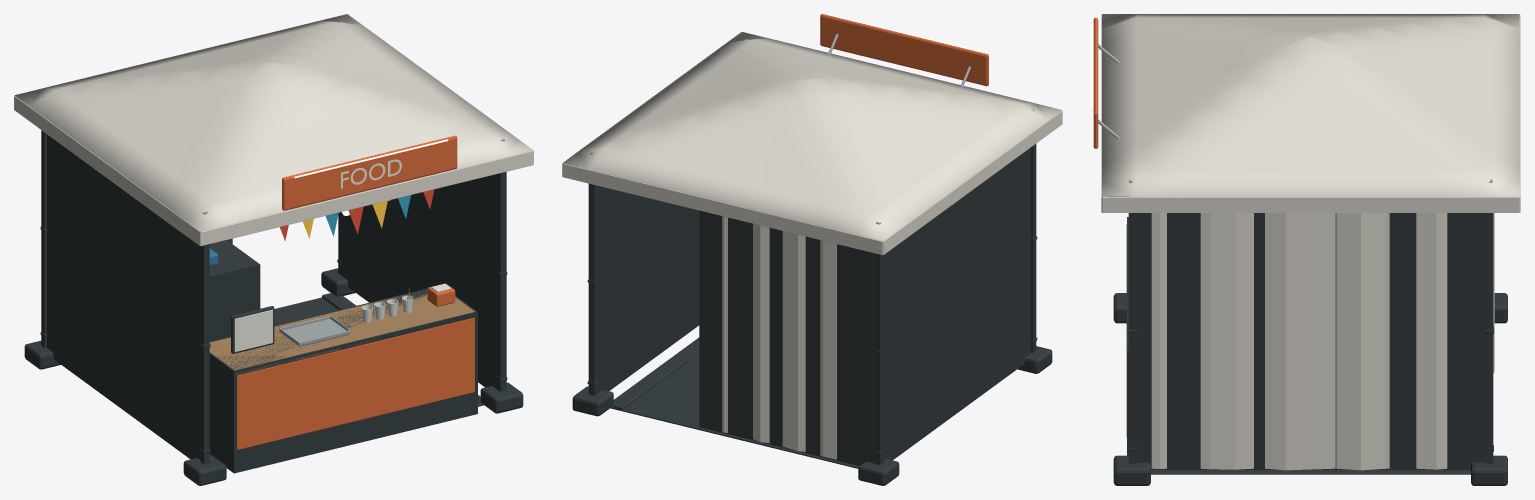
The model's file is SIMUS_Festival_Booth_Food.fbx.
3 renders of one model, left to right at view 1: azimuth 30°, elevation 25°; view 2: azimuth 150°, elevation 25°; view 3: azimuth 270°, elevation 25°, orthographic. The views are drawn at different scales.
Visible parts, largest first — view 1: FESTIVAL_BOOTH_CANOPY_FABRIC_Food, COL_Food_PANEL_LEFT, FESTIVAL_BOOTH_COUNTER_FASCIA_Food, COL_Food_PANEL_RIGHT, COL_Food_COUNTER, Main_Sign_Board_Food, FESTIVAL_BOOTH_COUNTER_TOP_Food, Canopy_Hem_0_-1_Food, COL_Food_TABLE, FESTIVAL_BOOTH_WEIGHTS_BLOCKS_Food, Canopy_Hem_1_-1_Food, COL_Food_POST_-1.4_-1.3 (+6 smaller); view 2: FESTIVAL_BOOTH_CANOPY_FABRIC_Food, COL_Food_PANEL_LEFT, COL_Food_PANEL_BACK, COL_Food_PANEL_RIGHT, FESTIVAL_BOOTH_PANEL_BACK_FABRIC_Food, Main_Sign_Board_Food, Canopy_Hem_0_1_Food, FESTIVAL_BOOTH_FLOOR_MAT_MESH_Food, Canopy_Hem_1_-1_Food, FESTIVAL_BOOTH_WEIGHTS_BLOCKS_Food, COL_Food_POST_-1.4_1.3, COL_Food_POST_1.4_1.3 (+2 smaller); view 3: FESTIVAL_BOOTH_CANOPY_FABRIC_Food, FESTIVAL_BOOTH_PANEL_RIGHT_FABRIC_Food, COL_Food_PANEL_RIGHT, Canopy_Hem_1_1_Food, FESTIVAL_BOOTH_WEIGHTS_BLOCKS_Food, COL_Food_POST_1.4_1.3, COL_Food_POST_1.4_-1.3, FESTIVAL_BOOTH_FLOOR_MAT_MESH_Food, Main_Sign_Board_Food, COL_Food_COUNTER.
Part boxes in pixels (bbox=[...]): FESTIVAL_BOOTH_CANOPY_FABRIC_Food: bbox=[14, 14, 533, 231]; COL_Food_PANEL_LEFT: bbox=[47, 134, 200, 459]; FESTIVAL_BOOTH_COUNTER_FASCIA_Food: bbox=[237, 317, 474, 449]; COL_Food_PANEL_RIGHT: bbox=[341, 174, 497, 389]; COL_Food_COUNTER: bbox=[209, 288, 477, 473]; Main_Sign_Board_Food: bbox=[282, 135, 457, 210]; FESTIVAL_BOOTH_COUNTER_TOP_Food: bbox=[209, 294, 474, 374]; Canopy_Hem_0_-1_Food: bbox=[200, 151, 533, 246]; COL_Food_TABLE: bbox=[209, 240, 260, 341]; FESTIVAL_BOOTH_WEIGHTS_BLOCKS_Food: bbox=[24, 268, 523, 485]; Canopy_Hem_1_-1_Food: bbox=[14, 96, 200, 245]; COL_Food_POST_-1.4_-1.3: bbox=[200, 244, 209, 464]; FESTIVAL_BOOTH_CANOPY_FABRIC_Food: bbox=[563, 32, 1061, 241]; COL_Food_PANEL_LEFT: bbox=[883, 147, 1030, 460]; COL_Food_PANEL_BACK: bbox=[699, 210, 874, 465]; COL_Food_PANEL_RIGHT: bbox=[597, 186, 699, 392]; FESTIVAL_BOOTH_PANEL_BACK_FABRIC_Food: bbox=[722, 216, 836, 459]; Main_Sign_Board_Food: bbox=[820, 14, 988, 86]; Canopy_Hem_0_1_Food: bbox=[562, 163, 882, 255]; FESTIVAL_BOOTH_FLOOR_MAT_MESH_Food: bbox=[610, 337, 858, 468]; Canopy_Hem_1_-1_Food: bbox=[883, 110, 1062, 254]; FESTIVAL_BOOTH_WEIGHTS_BLOCKS_Food: bbox=[572, 346, 1052, 485]; COL_Food_POST_-1.4_1.3: bbox=[874, 253, 883, 465]; COL_Food_POST_1.4_1.3: bbox=[588, 183, 597, 395]; FESTIVAL_BOOTH_CANOPY_FABRIC_Food: bbox=[1102, 14, 1519, 196]; FESTIVAL_BOOTH_PANEL_RIGHT_FABRIC_Food: bbox=[1151, 213, 1447, 470]; COL_Food_PANEL_RIGHT: bbox=[1136, 213, 1485, 469]; Canopy_Hem_1_1_Food: bbox=[1102, 196, 1519, 212]; FESTIVAL_BOOTH_WEIGHTS_BLOCKS_Food: bbox=[1113, 293, 1507, 485]; COL_Food_POST_1.4_1.3: bbox=[1485, 213, 1493, 463]; COL_Food_POST_1.4_-1.3: bbox=[1128, 213, 1135, 463]; FESTIVAL_BOOTH_FLOOR_MAT_MESH_Food: bbox=[1151, 470, 1470, 474]; Main_Sign_Board_Food: bbox=[1093, 17, 1098, 148]; COL_Food_COUNTER: bbox=[1127, 217, 1128, 455].
Size of the model in its own units: 315 by 289 by 312.
